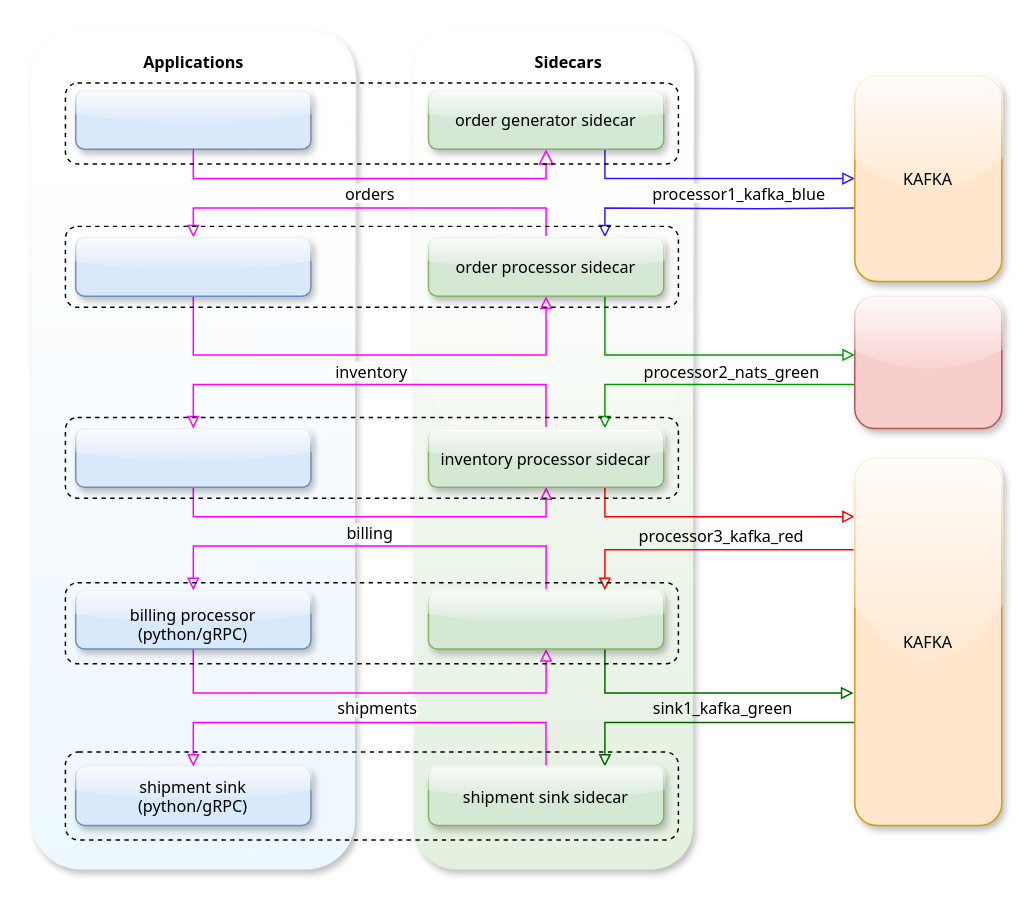
The diagram is 1036 pixels wide and 904 high, and some of its shapes have lost their labels. Each missing label, with the centre of its shape:
"billing processor sidecar" belongs at point (547, 621).
"inventory processor (SpringBoot/HTTP/REST)" belongs at point (194, 459).
"NATS" belongs at point (929, 364).
"order generator (java/gRPC)" belongs at point (194, 121).
"order processor (python/gRPC)" belongs at point (194, 268).
